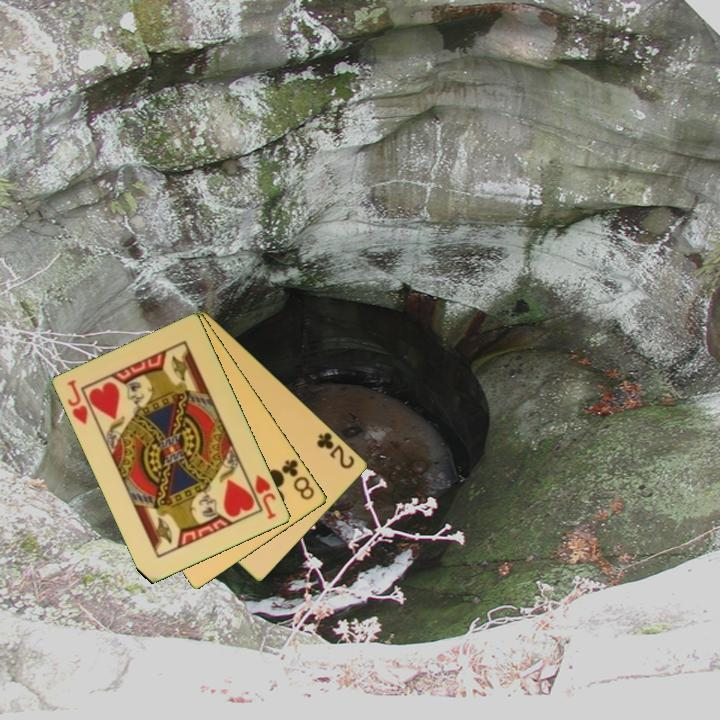2c: (313, 428, 358, 472)
8c: (278, 456, 318, 503)
Jh: (64, 376, 91, 428), (252, 471, 279, 522)
